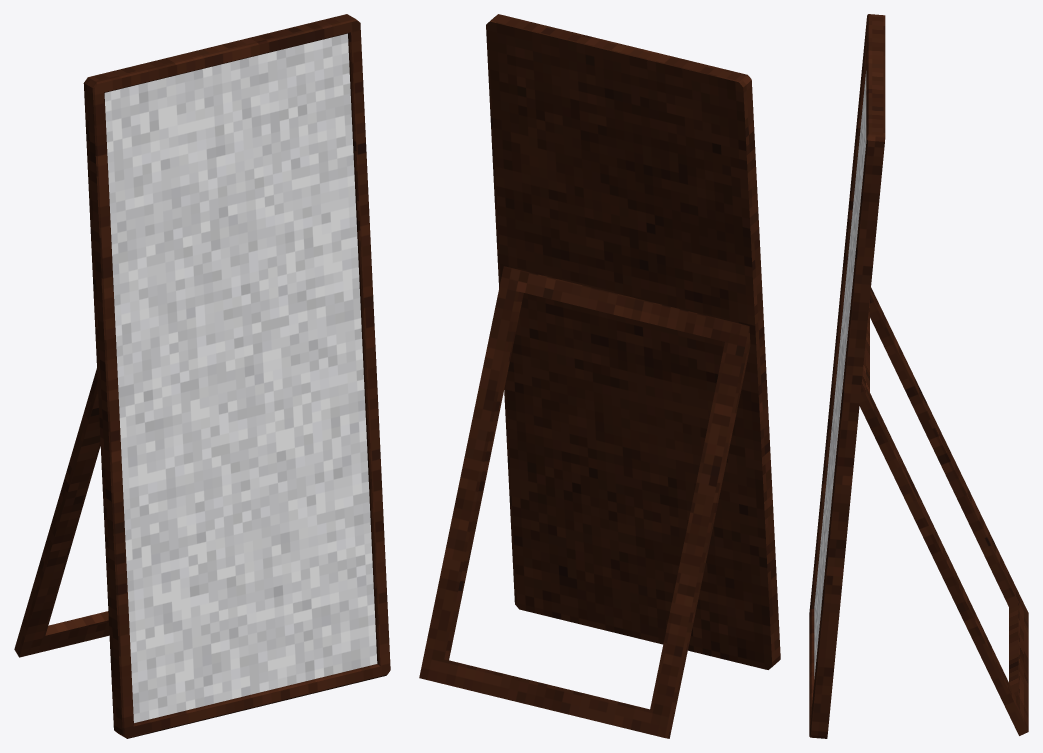
The model's file is mirror_standing.fbx.
The picture shows the model from 3 angles, left to right: view 1: azimuth 30°, elevation 25°; view 2: azimuth 150°, elevation 25°; view 3: azimuth 270°, elevation 25°; orthographic projection. The views are drawn at different scales.
Parts seen in each view (by area): view 1: Mirror1; view 2: Mirror1; view 3: Mirror1.
Boxes of the visible parts, box(x1,y1,x2,y2) form: Mirror1: box(14, 14, 390, 738); Mirror1: box(419, 14, 780, 738); Mirror1: box(809, 14, 1028, 738).
Size of the model in its own units: 76.22 by 173 by 56.84.
